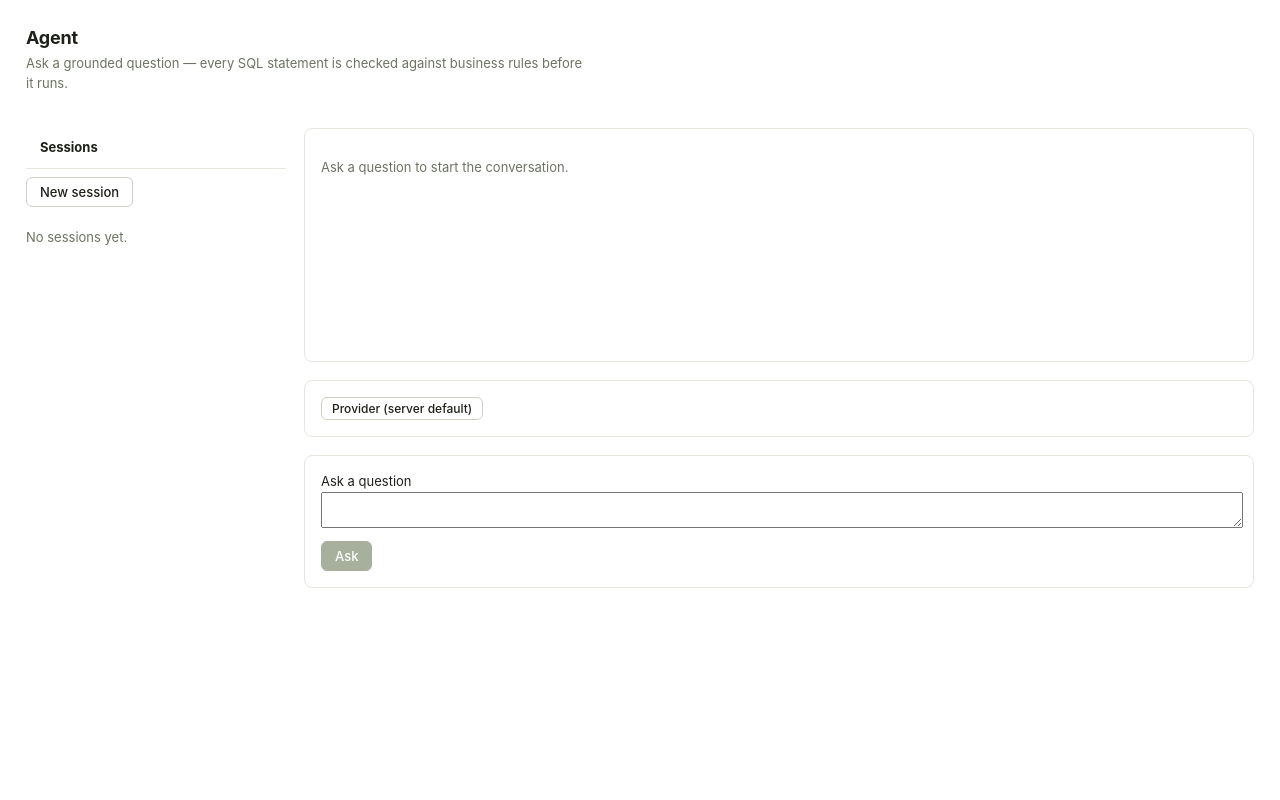
Test case: shows a blocked-then-passed validation step distinctly
This screenshot has width=1280, height=800.
Type "Delete all trades" into the text box labelled "Ask a question". click: (782, 510)
box: left=321, top=492, right=1243, bottom=528
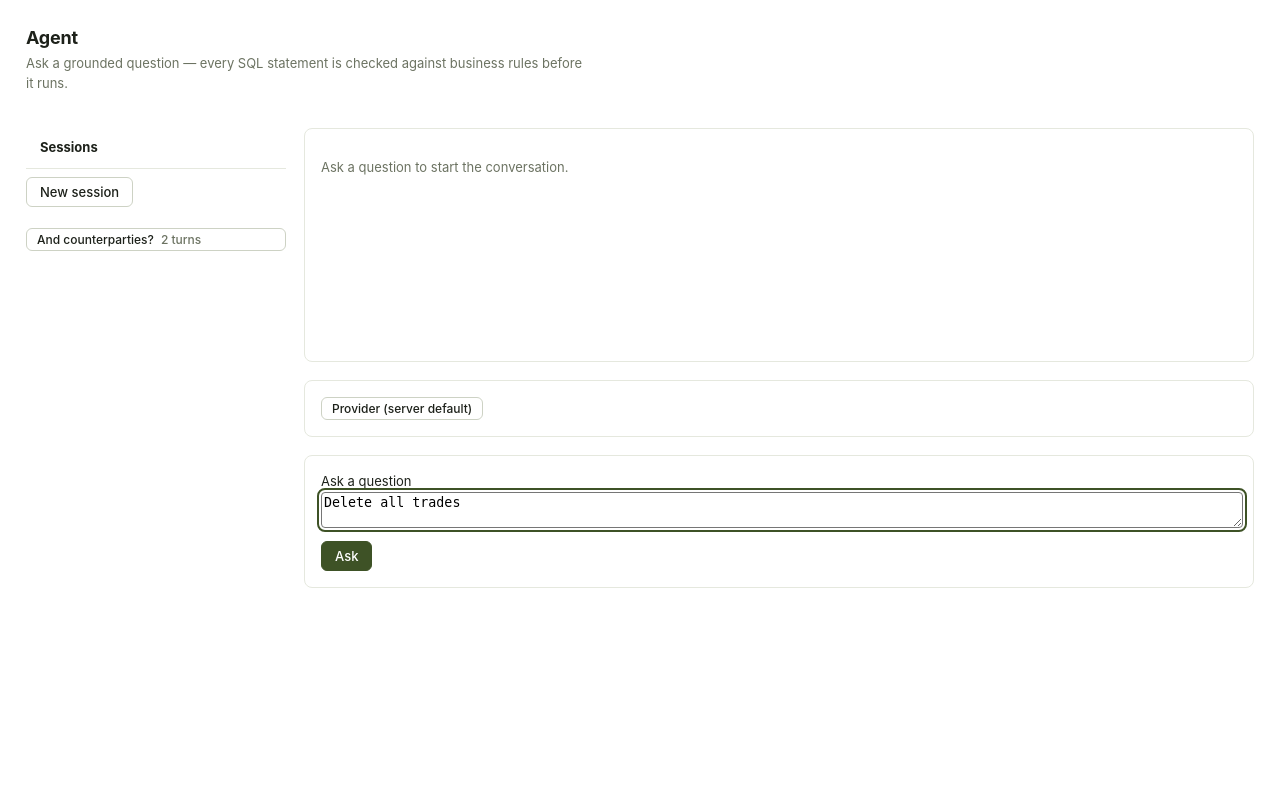
Click the button "Ask". click: (347, 556)
box: left=321, top=541, right=372, bottom=571
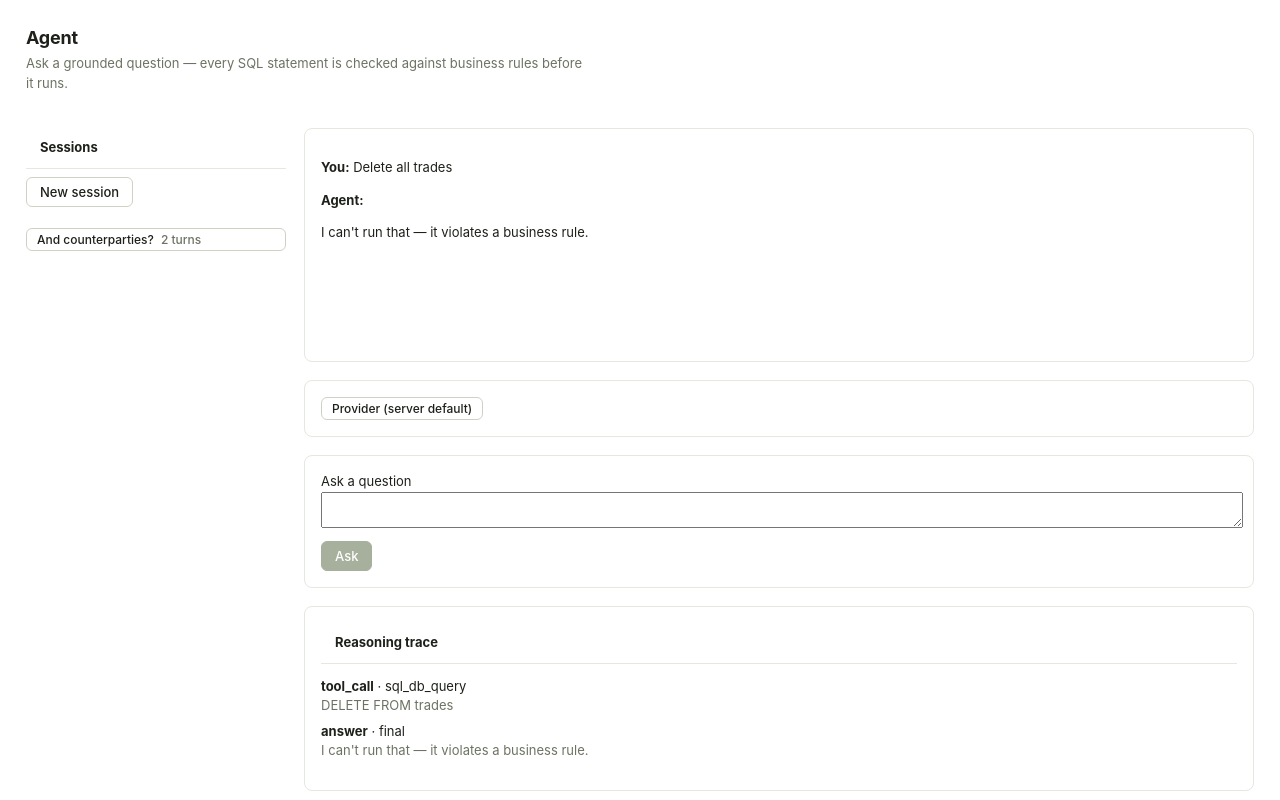
Check: the list item "tool_call · sql_db_query DELETE FROM trades" is shown, box left=321, top=678, right=466, bottom=713
